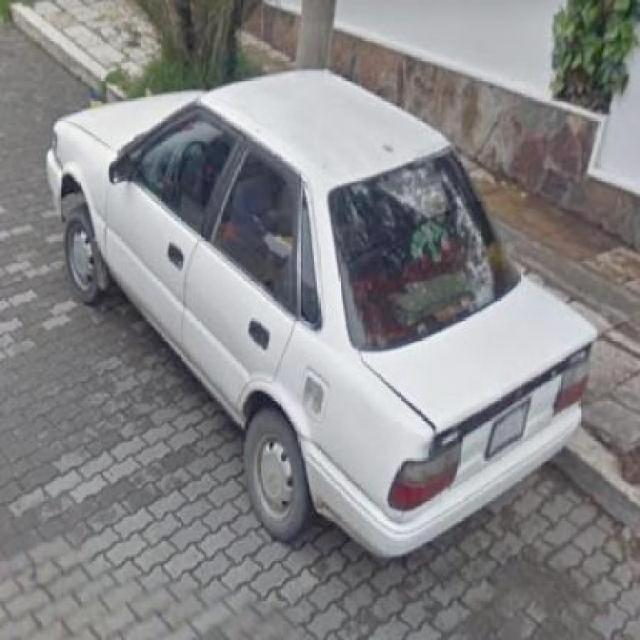car: (51, 29, 594, 557)
